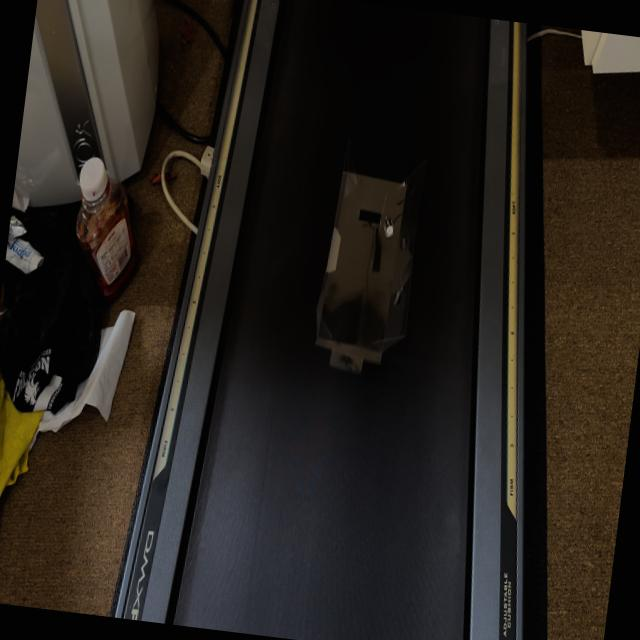Trash: (299, 150, 445, 404)
